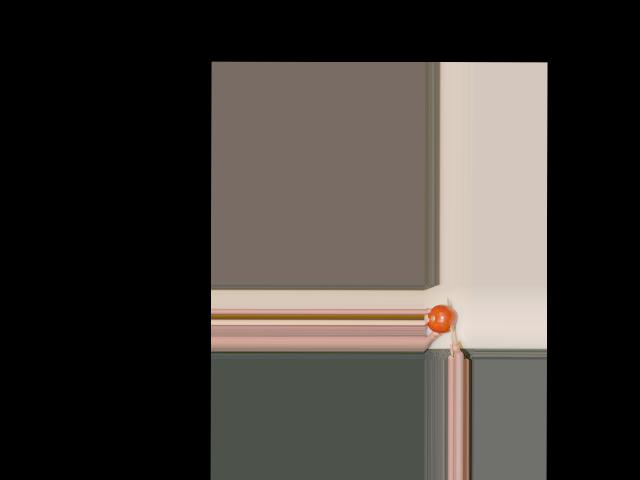tomato: (427, 304, 457, 333)
